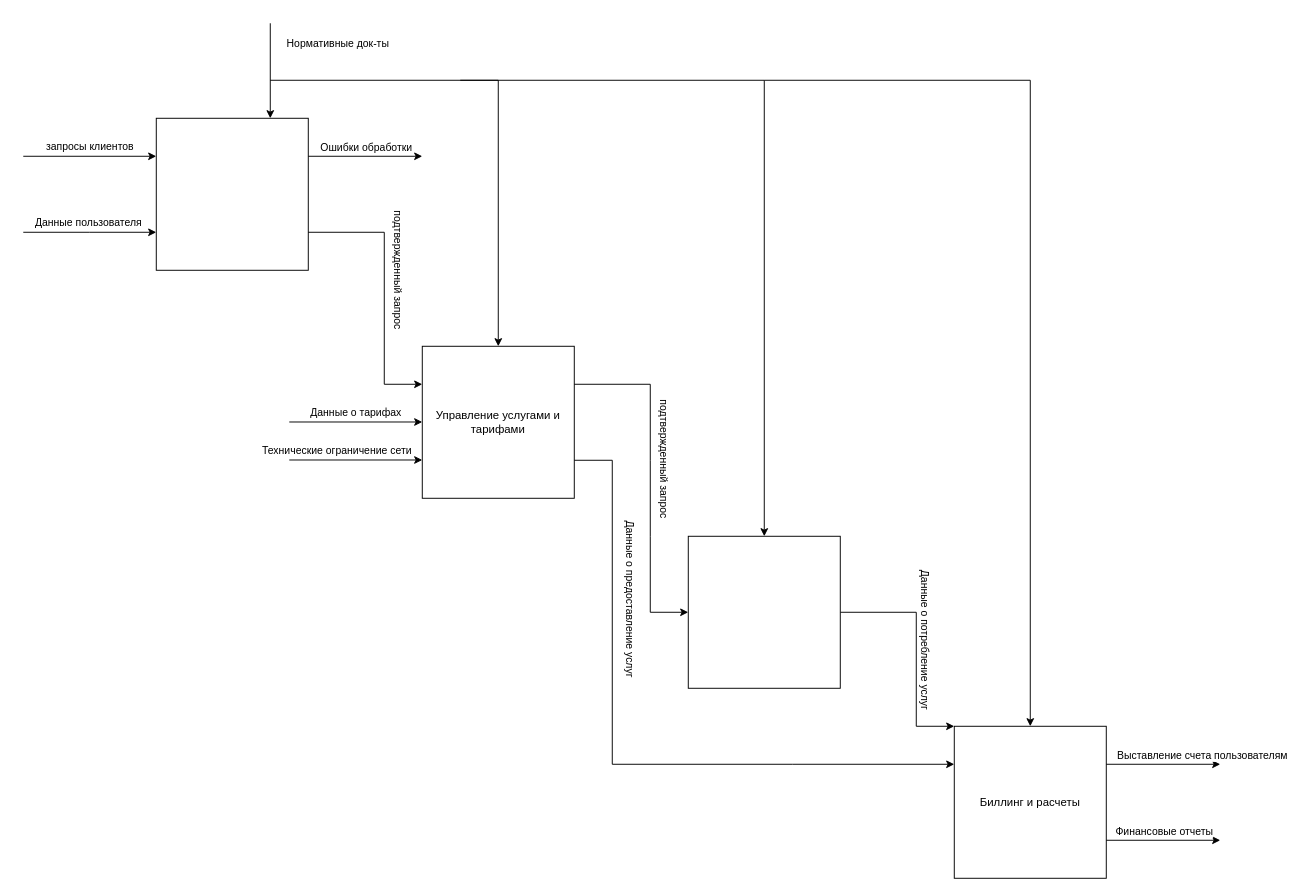
Some shapes in this 1303 by 895 pixel diagram are drawn without their labels. Each missing label, with the box of its shape:
Мониторинг и контроль качества услуг: (687, 535, 840, 688)
Обработка пользовательских запросов: (155, 117, 308, 270)
